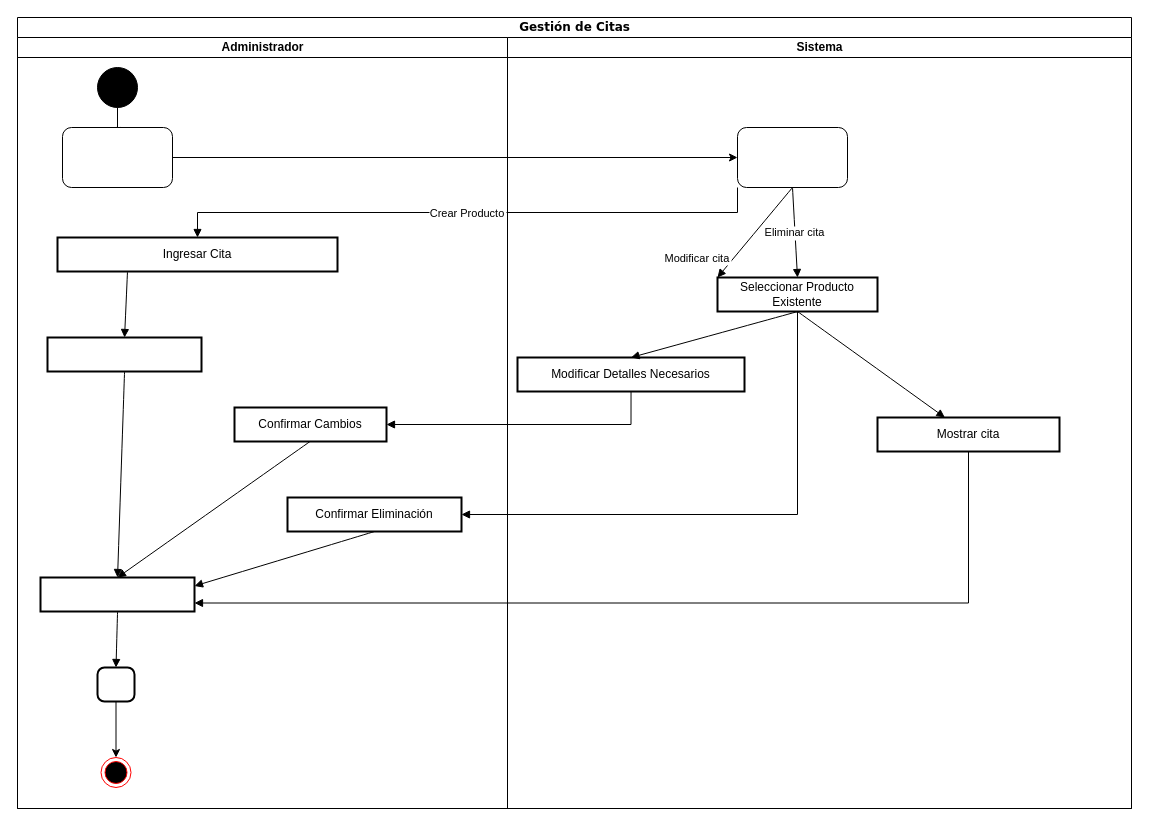
Some shapes in this 1149 by 826 pixel diagram are drawn without their labels. The centre of each missing label's shape, as x and y in pixels:
"Acceder a gestión de citas" goes at (x=117, y=157).
"Confirmar Creación" goes at (x=124, y=354).
"Fin" goes at (x=115, y=684).
"Notificar al Usuario" goes at (x=117, y=594).
"Seleccionar acción de CRUD" goes at (x=792, y=157).
